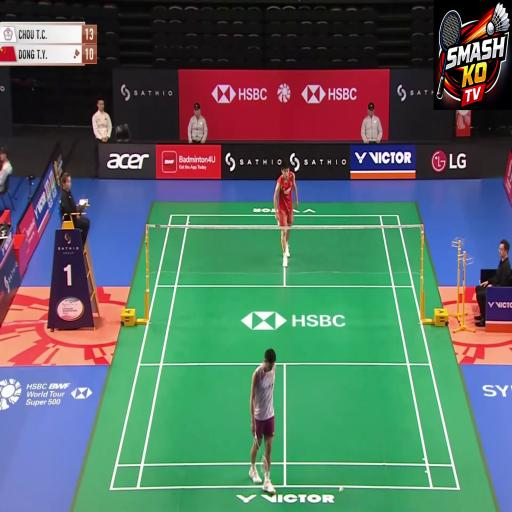player: (232, 327, 296, 501), (257, 137, 312, 285)
